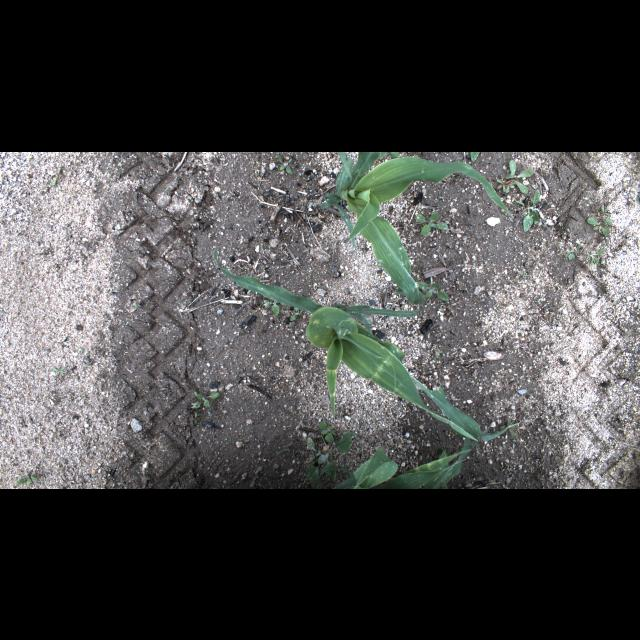crop: (212, 244, 478, 441), (322, 152, 512, 304), (316, 374, 518, 488)
weed: (305, 431, 357, 484), (498, 158, 534, 194), (516, 189, 540, 231), (412, 275, 450, 301), (414, 210, 450, 236), (586, 210, 612, 236), (192, 389, 222, 409), (501, 418, 519, 440), (276, 152, 294, 174), (319, 421, 335, 444), (588, 248, 606, 266), (264, 296, 280, 316), (16, 475, 38, 487), (51, 166, 61, 186), (278, 441, 294, 453), (290, 304, 300, 320), (564, 246, 574, 260), (600, 204, 610, 216), (51, 367, 65, 375), (470, 151, 480, 161), (433, 348, 442, 358), (180, 301, 188, 305), (77, 349, 83, 353), (537, 299, 541, 305)
